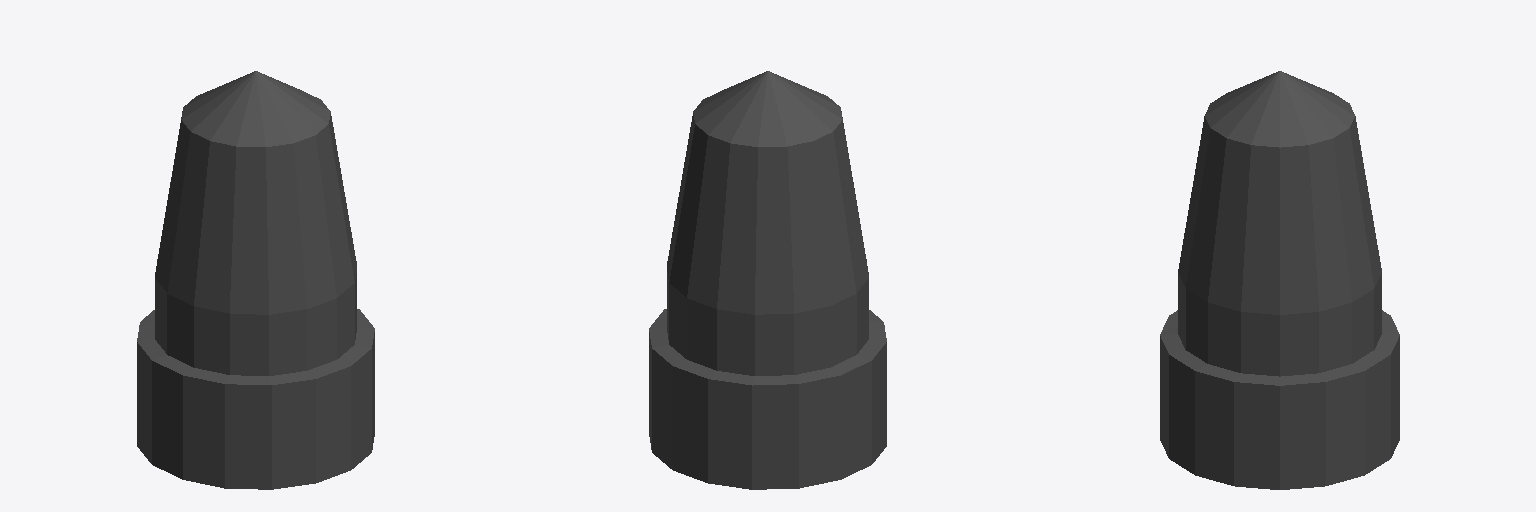
File: Rocket.obj
3 views of the same model, side by side, from view 1: azimuth 30°, elevation 25°; view 2: azimuth 150°, elevation 25°; view 3: azimuth 270°, elevation 25° (orthographic).
Parts seen in each view (by area): view 1: Rocket; view 2: Rocket; view 3: Rocket.
Boxes of the visible parts, box(x1,y1,x2,y2) form: Rocket: box(137, 71, 374, 489); Rocket: box(649, 71, 886, 489); Rocket: box(1160, 71, 1399, 489).
Size of the model in its own units: 0.8626 by 1.47 by 0.8626.